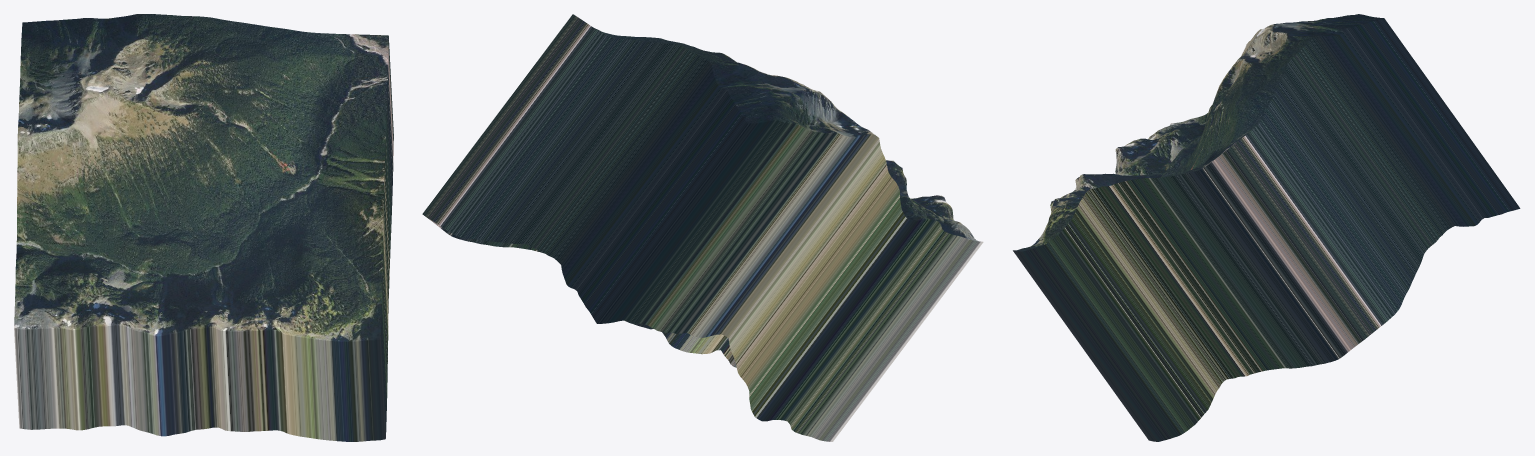
3 renders of one model, left to right at view 1: azimuth 30°, elevation 25°; view 2: azimuth 150°, elevation 25°; view 3: azimuth 270°, elevation 25°, orthographic. The views are drawn at different scales.
Bounding box in the file's own units: 6328 × 4887 × 6508.
1 material, 1 textured.
